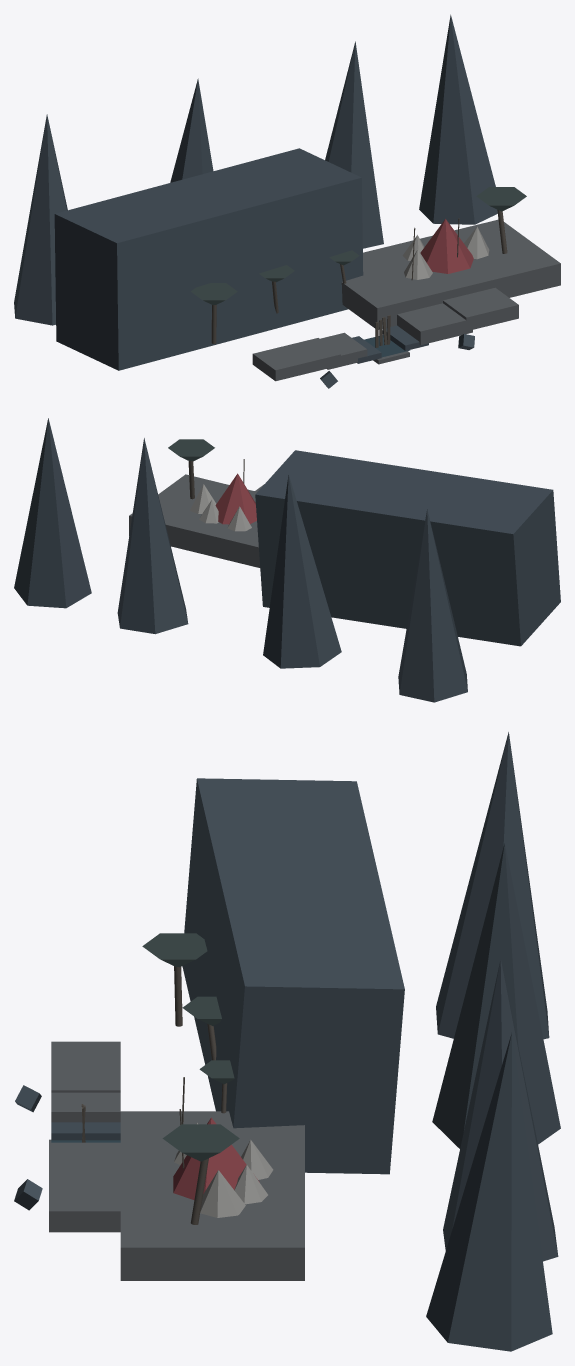
Rendered from adwa_environment1.glb.
3 views of the same model, one above another, from view 1: azimuth 30°, elevation 25°; view 2: azimuth 150°, elevation 25°; view 3: azimuth 270°, elevation 25° (orthographic). The views are drawn at different scales.
Visible parts, largest first — view 1: LN_Towering_Amba, Cube, LN_Distant_Plug_4, LN_Distant_Plug_1, LN_Distant_Plug_3, Terr_Low_A, LN_Distant_Plug_2, Terr_Mid_B, Terr_Mid_A, LN_Menelik_Pavilion, Terr_Low_B, Spooky_Acacia_4_Foliage (+4 smaller); view 2: LN_Towering_Amba, LN_Distant_Plug_2, LN_Distant_Plug_4, LN_Distant_Plug_3, LN_Distant_Plug_1, Cube, LN_Menelik_Pavilion, Spooky_Acacia_4_Foliage, LN_Tent_2, LN_Tent_3; view 3: LN_Towering_Amba, Cube, LN_Distant_Plug_4, LN_Distant_Plug_2, LN_Distant_Plug_1, LN_Distant_Plug_3, Terr_Mid_B, Terr_Low_A, Terr_Mid_A, Terr_Low_B, LN_Menelik_Pavilion, Spooky_Acacia_4_Foliage (+5 smaller).
Boxes of the visible parts, left/top/right/bottom form: LN_Towering_Amba: left=54, top=148, right=363, bottom=370; Cube: left=341, top=219, right=560, bottom=329; LN_Distant_Plug_4: left=419, top=14, right=497, bottom=224; LN_Distant_Plug_1: left=14, top=114, right=67, bottom=325; LN_Distant_Plug_3: left=325, top=41, right=383, bottom=248; Terr_Low_A: left=252, top=338, right=340, bottom=381; LN_Distant_Plug_2: left=170, top=78, right=213, bottom=182; Terr_Mid_B: left=443, top=287, right=518, bottom=331; Terr_Mid_A: left=397, top=303, right=472, bottom=345; LN_Menelik_Pavilion: left=420, top=219, right=473, bottom=273; Terr_Low_B: left=320, top=332, right=367, bottom=369; Spooky_Acacia_4_Foliage: left=476, top=187, right=526, bottom=211; LN_Towering_Amba: left=255, top=450, right=560, bottom=646; LN_Distant_Plug_2: left=263, top=474, right=341, bottom=668; LN_Distant_Plug_4: left=14, top=418, right=91, bottom=608; LN_Distant_Plug_3: left=117, top=438, right=188, bottom=634; LN_Distant_Plug_1: left=398, top=509, right=467, bottom=702; Cube: left=129, top=474, right=260, bottom=567; LN_Menelik_Pavilion: left=215, top=473, right=256, bottom=524; Spooky_Acacia_4_Foliage: left=168, top=439, right=214, bottom=461; LN_Tent_2: left=190, top=484, right=216, bottom=513; LN_Tent_3: left=227, top=506, right=251, bottom=531; LN_Towering_Amba: left=182, top=778, right=404, bottom=1174; Cube: left=120, top=1111, right=304, bottom=1280; LN_Distant_Plug_4: left=426, top=1033, right=552, bottom=1351; LN_Distant_Plug_2: left=432, top=843, right=560, bottom=1148; LN_Distant_Plug_1: left=436, top=732, right=549, bottom=1039; LN_Distant_Plug_3: left=443, top=959, right=558, bottom=1261; Terr_Mid_B: left=49, top=1172, right=120, bottom=1232; Terr_Low_A: left=51, top=1041, right=120, bottom=1092; Terr_Mid_A: left=49, top=1142, right=120, bottom=1172; Terr_Low_B: left=51, top=1092, right=120, bottom=1122; LN_Menelik_Pavilion: left=173, top=1117, right=259, bottom=1199; Spooky_Acacia_4_Foliage: left=162, top=1124, right=239, bottom=1161.
Size of the model in its own units: 37.17 by 14.17 by 23.74.
